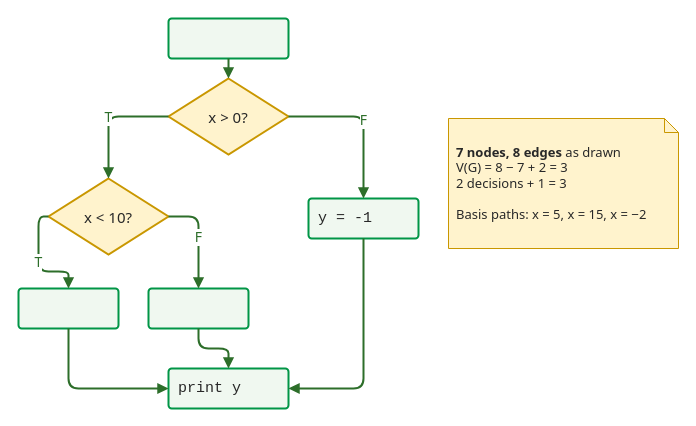
Image size: 696x426. Some labels were removed from this diagram. Here are the shapes that lost their labels. From the top down, the centre of each, then its label:
At (x=228, y=38): "input x".
At (x=68, y=308): "y = 1".
At (x=198, y=308): "y = 2".
